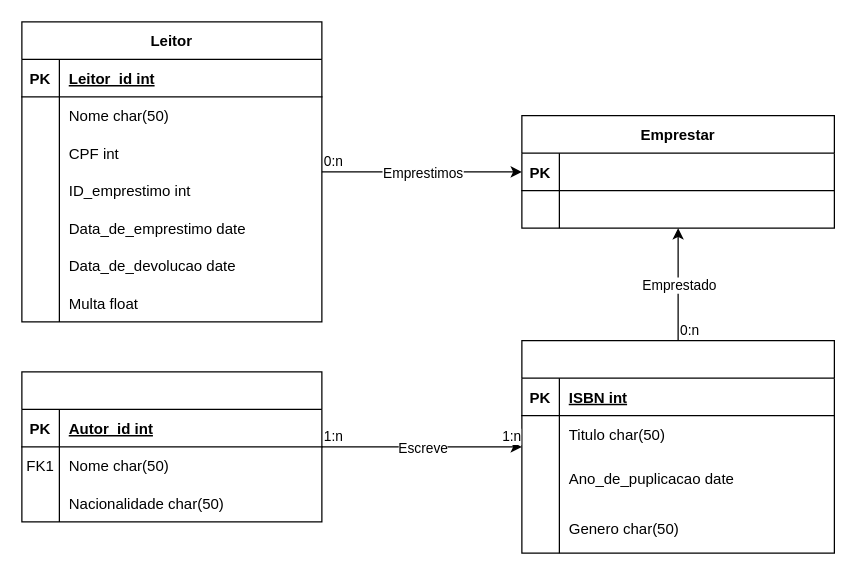
Some shapes in this 856 by 575 pixel diagram are drawn without their labels. Here are the shapes that lost their labels. From the top down, the box of each, then its label:
(21, 371, 322, 522): Escritor
(521, 339, 834, 553): Livros
